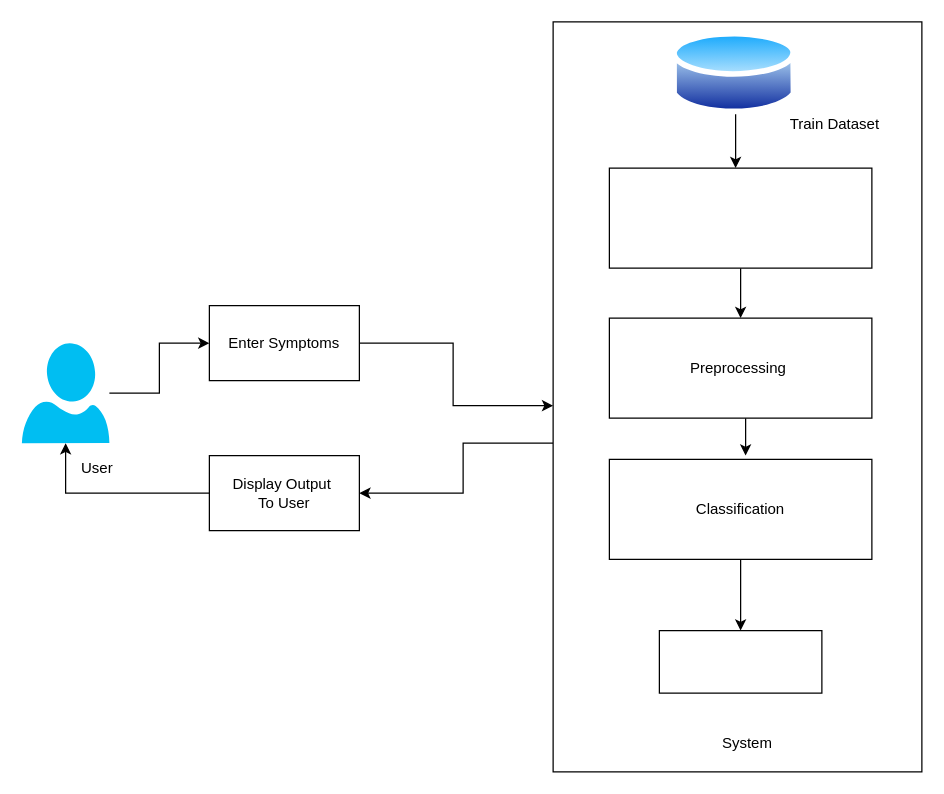
Image size: 944x794. Some labels were removed from this diagram. The shapes that lost their labels are listed below. From the top down, each one's centre as x and y in pixels, then its label:
At point (740, 217): "Analyses Symptoms".
At point (740, 661): "Predict The Heart Disease or Nor".
